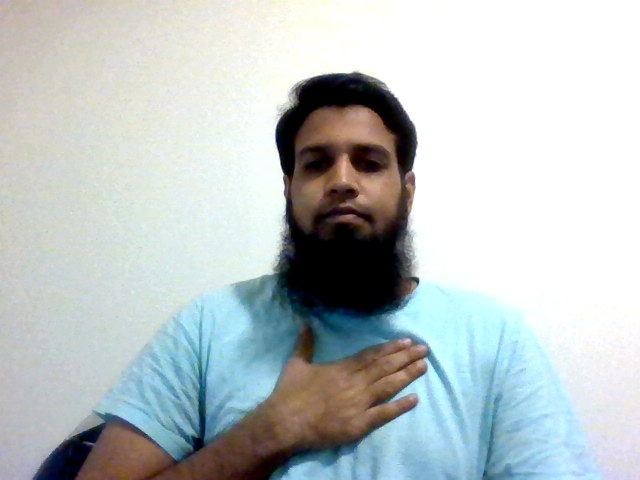please: (264, 320, 434, 454)
